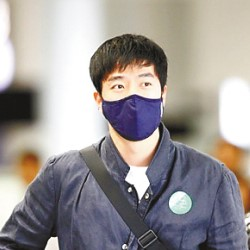mask: (97, 93, 164, 146)
